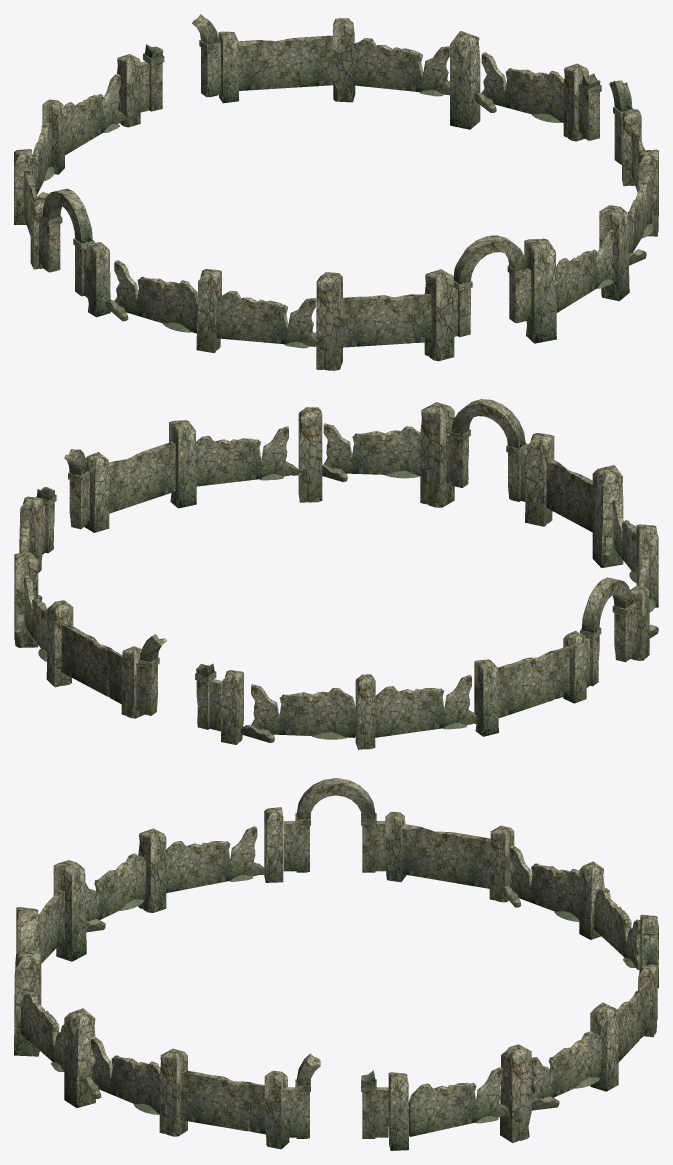
Rendered from poi_nboo_gungan_corral_64x64_s01_l0.fbx.
The picture shows the model from 3 angles, top to bottom: view 1: azimuth 30°, elevation 25°; view 2: azimuth 150°, elevation 25°; view 3: azimuth 270°, elevation 25°; orthographic projection.
Visible parts, largest first — view 1: mesh_node; view 2: mesh_node; view 3: mesh_node.
Boxes of the visible parts, x1,y1,x2,y2 form: mesh_node: [14, 14, 658, 370]; mesh_node: [14, 399, 658, 749]; mesh_node: [14, 778, 658, 1150].
Size of the model in its own units: 49.5 by 9.73 by 49.14.
